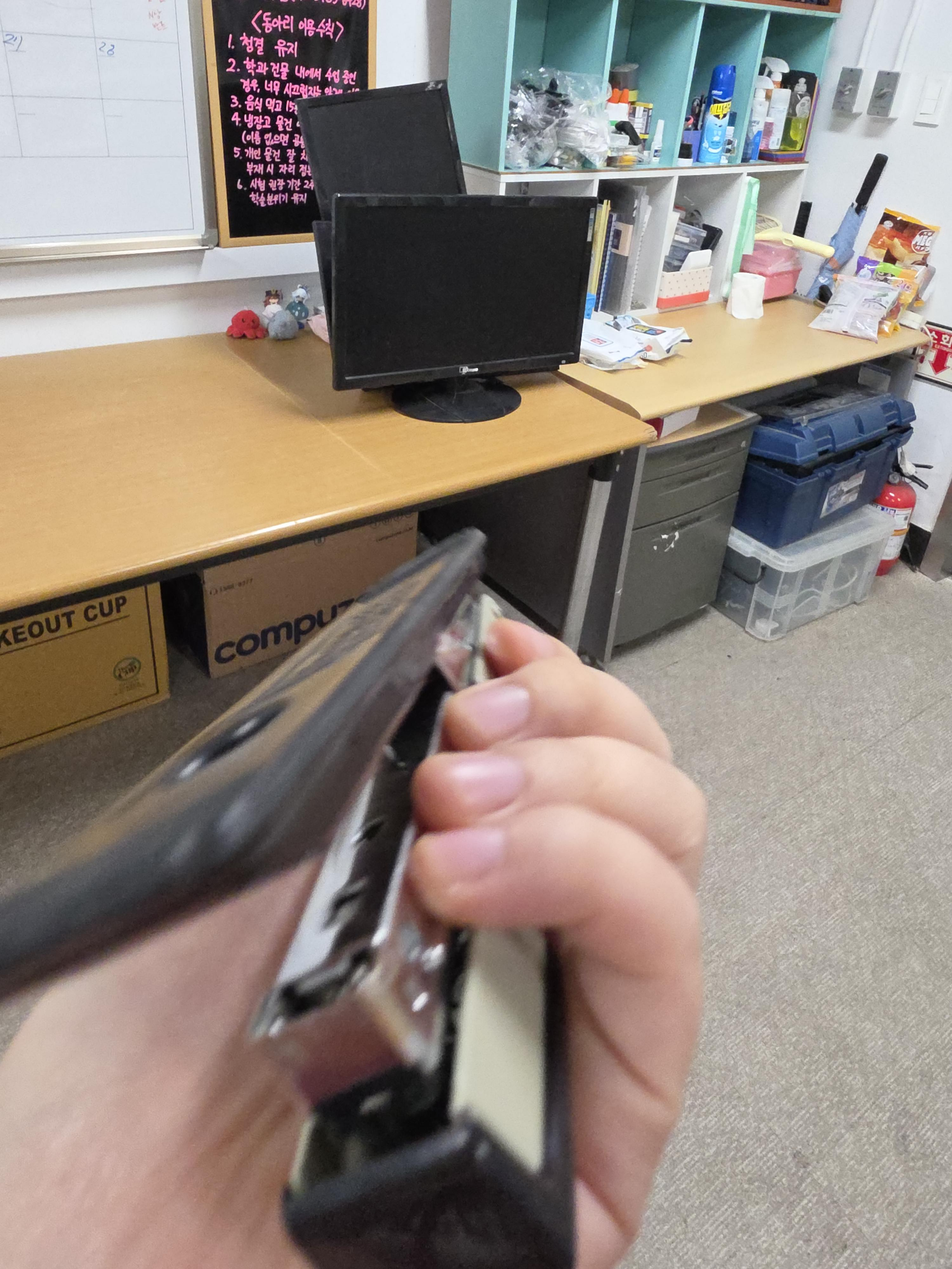stapler: (0, 527, 578, 1268)
tissue: (656, 248, 713, 309), (730, 272, 767, 320)
